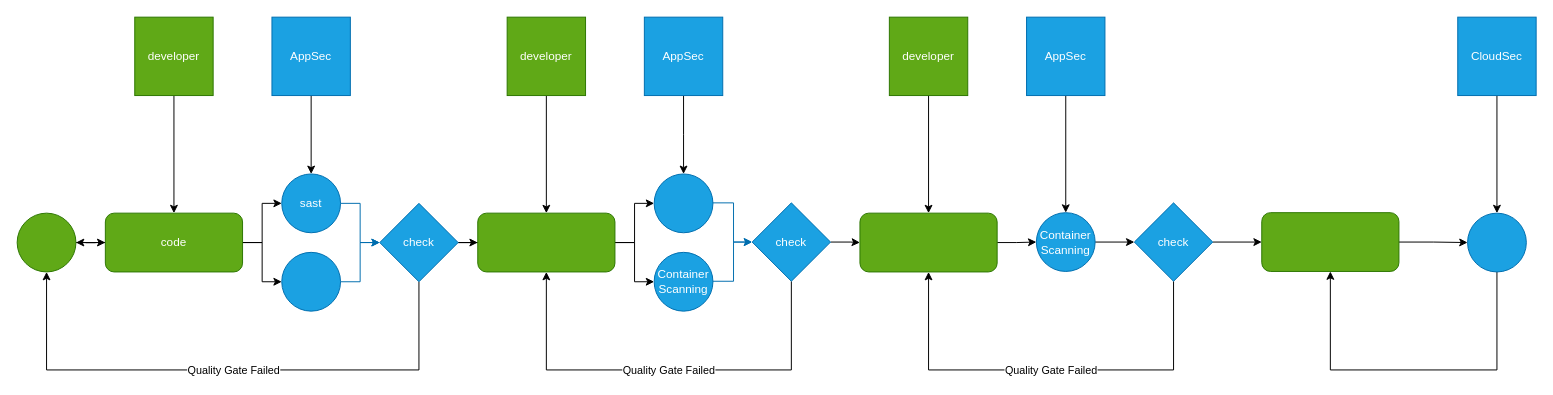
Image size: 1553x395. Some labels were removed from this diagram. The centre of each missing label's shape, as x and y in pixels:
"build container & push to registry" belongs at (x=546, y=242).
"container is online" belongs at (x=1330, y=241).
"deploy container to k8s" belongs at (x=928, y=242).
"IaC" belongs at (x=683, y=203).
"IDE plugin" belongs at (x=46, y=242).
"Monitor" belongs at (x=1496, y=242).
"sca" belongs at (x=311, y=281).
